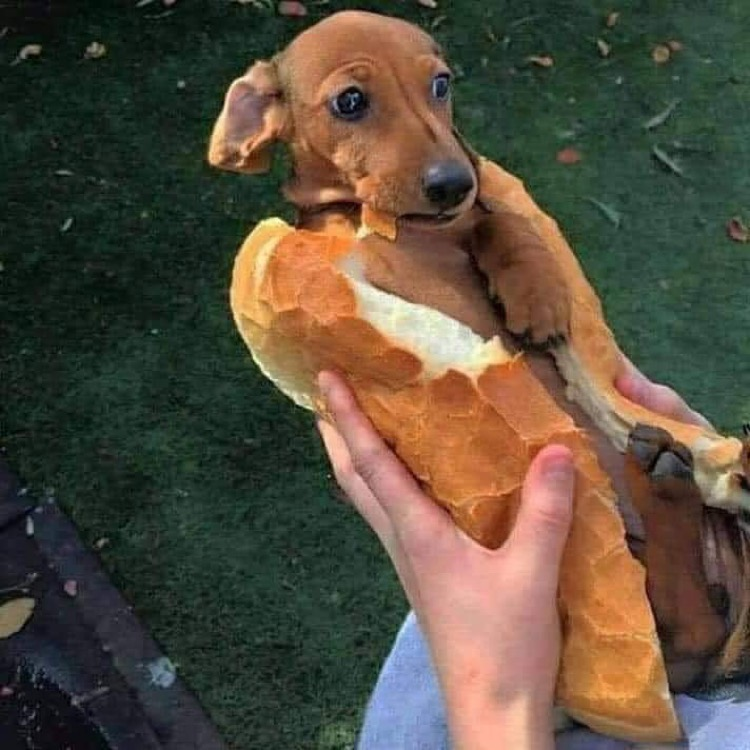dog: (210, 14, 725, 654)
